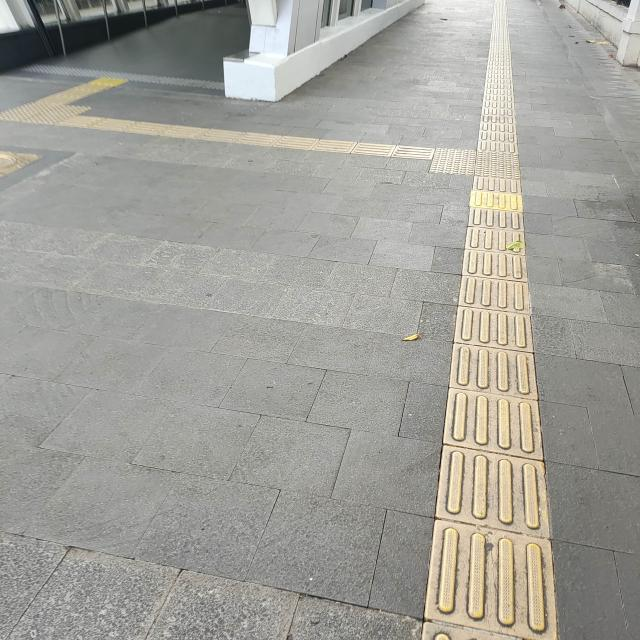lurus: (429, 192, 556, 640), (476, 0, 520, 148)
